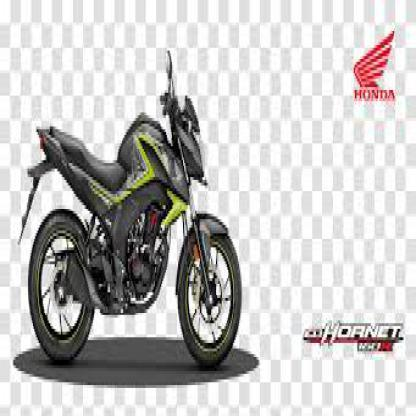Motorcycle: (21, 52, 243, 373)
